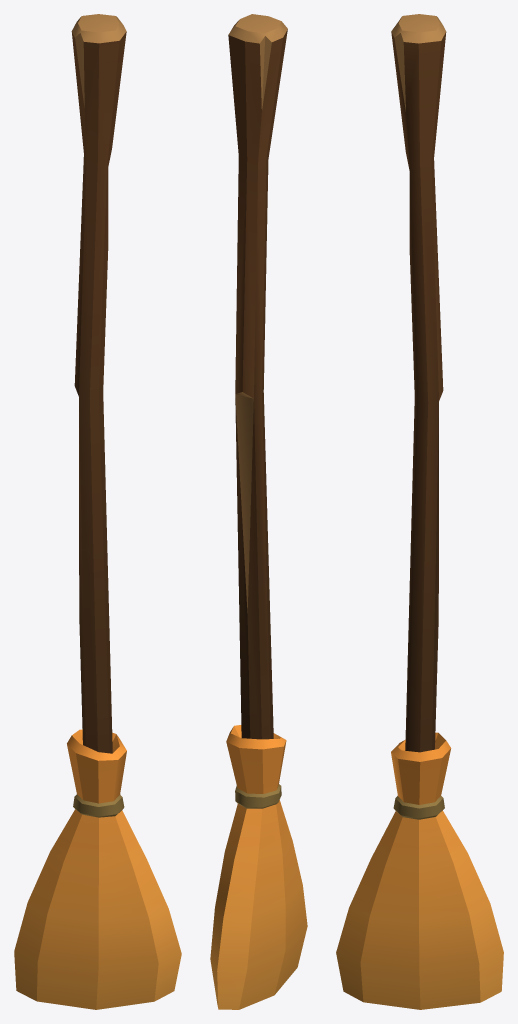
Rendered from Broom_A.glb.
The picture shows the model from 3 angles, left to right: view 1: azimuth 90°, elevation 25°; view 2: azimuth 150°, elevation 25°; view 3: azimuth 270°, elevation 25°; orthographic projection.
Parts seen in each view (by area): view 1: Broom_A; view 2: Broom_A; view 3: Broom_A.
Boxes of the visible parts, bbox=[...] form: Broom_A: bbox=[14, 14, 181, 1009]; Broom_A: bbox=[210, 14, 307, 1009]; Broom_A: bbox=[336, 14, 503, 1009].
Size of the model in its own units: 0.0985 by 1.65 by 0.2553.
1 material, 1 textured.
